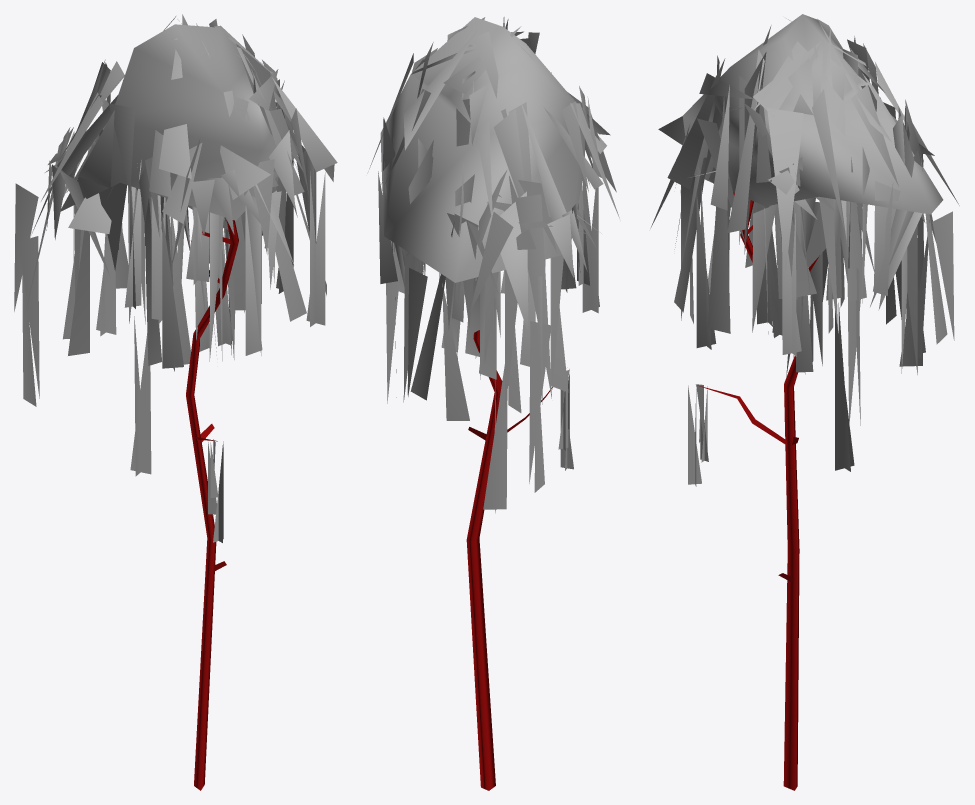
Rendered from env_forest_birch01_lod2.fbx.
3 renders of one model, left to right at view 1: azimuth 30°, elevation 25°; view 2: azimuth 150°, elevation 25°; view 3: azimuth 270°, elevation 25°, orthographic.
Visible parts, largest first — view 1: env_forest_birch01_lod2__submesh0; view 2: env_forest_birch01_lod2__submesh0; view 3: env_forest_birch01_lod2__submesh0.
Boxes of the visible parts, left/top/right/bottom form: env_forest_birch01_lod2__submesh0: left=14, top=14, right=337, bottom=790; env_forest_birch01_lod2__submesh0: left=367, top=17, right=619, bottom=790; env_forest_birch01_lod2__submesh0: left=650, top=14, right=959, bottom=790.
Bounding box in the file's own units: 48.66 × 138 × 50.92.
